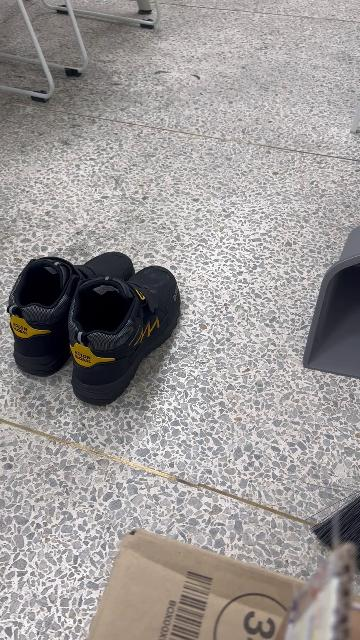shoe_worn: (75, 266, 182, 404), (8, 251, 125, 374)
